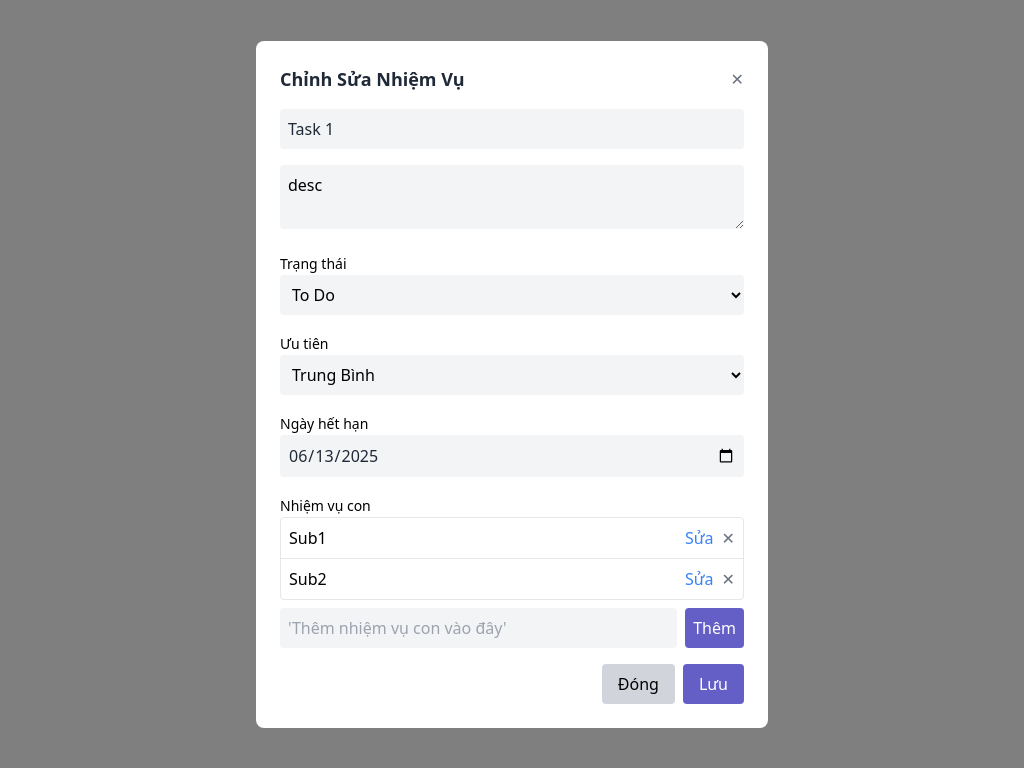
it: EditTaskModal › sửa subtask
This screenshot has width=1024, height=768.
Click the button "Sửa" in the row of "Sub1" at [699, 538], box x1=685 y1=526 x2=714 y2=550
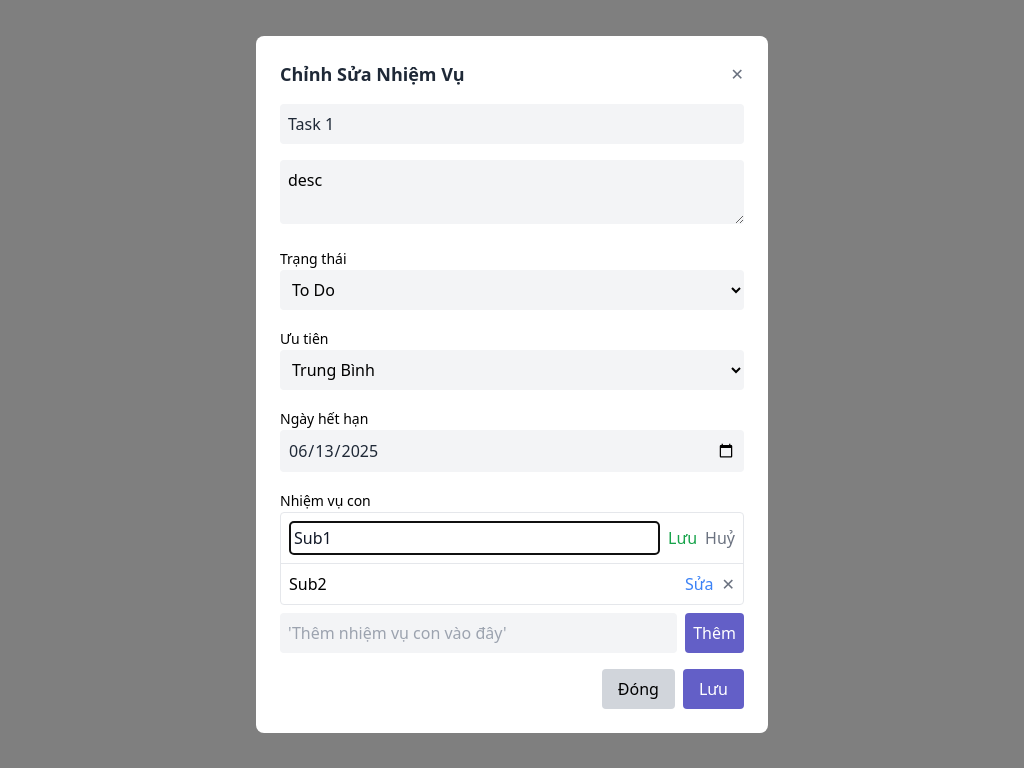
Replace the text in the field showing "Sub1" below "Nhiệm vụ con" with "Sub1 updated" at [474, 538], box x1=289 y1=520 x2=660 y2=554
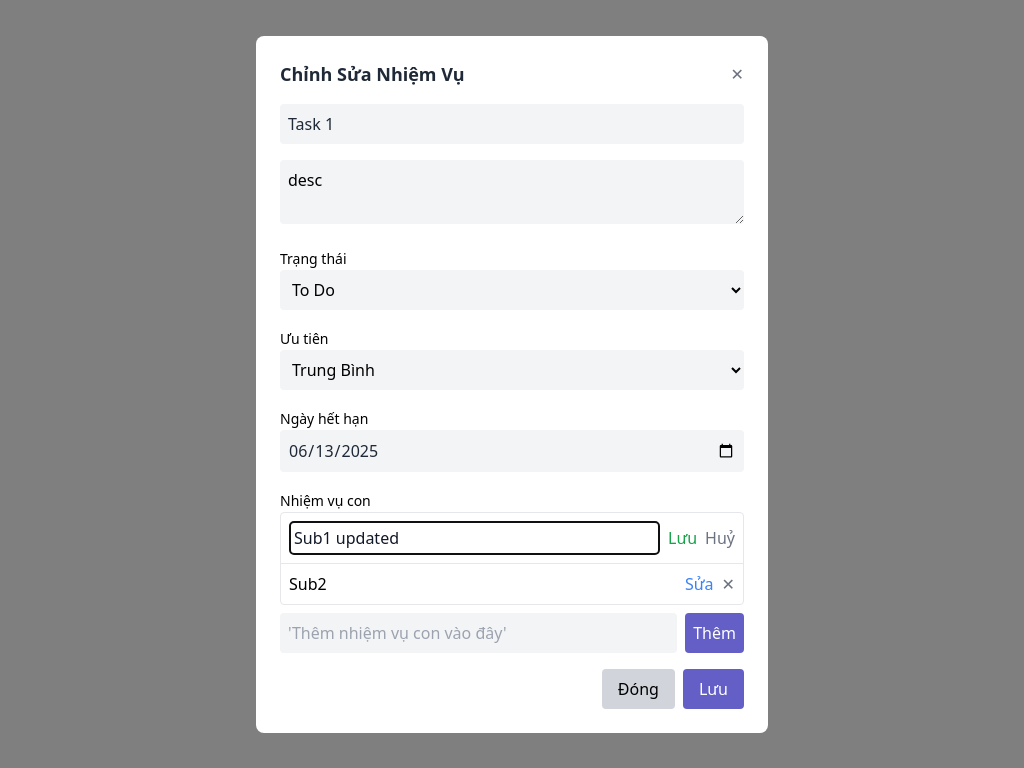
Click the button with test id "save-subtask-0" at [683, 538], box x1=668 y1=526 x2=697 y2=550
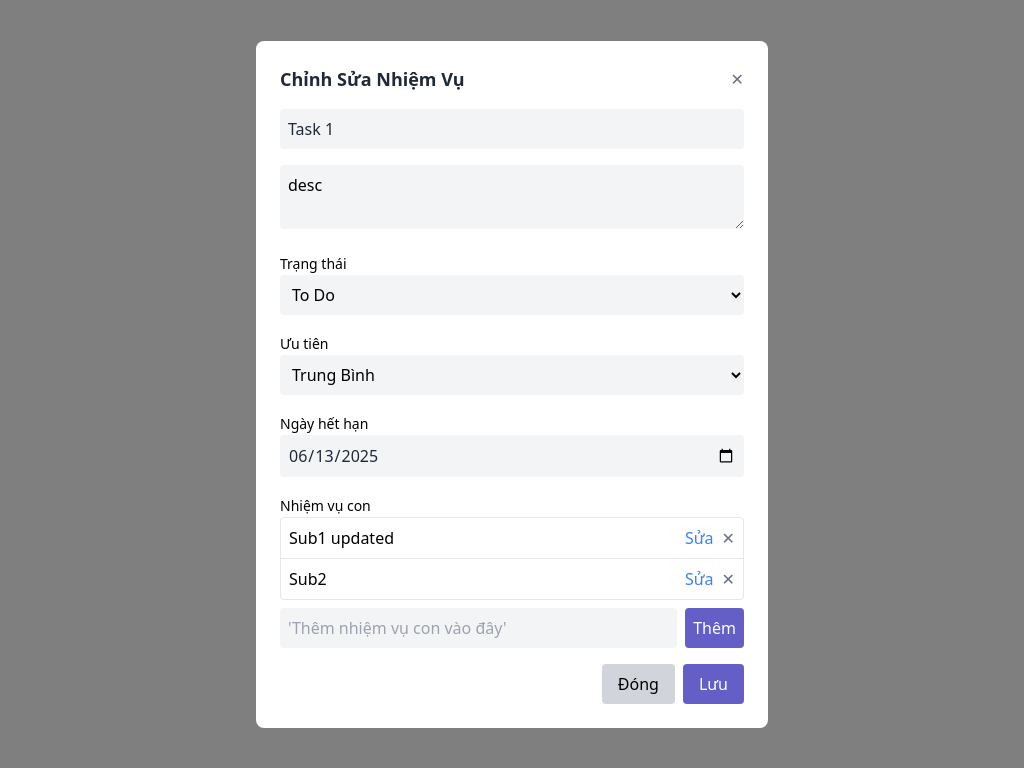
Now the text "Sub1 updated" is shown, box x1=289 y1=526 x2=394 y2=550
